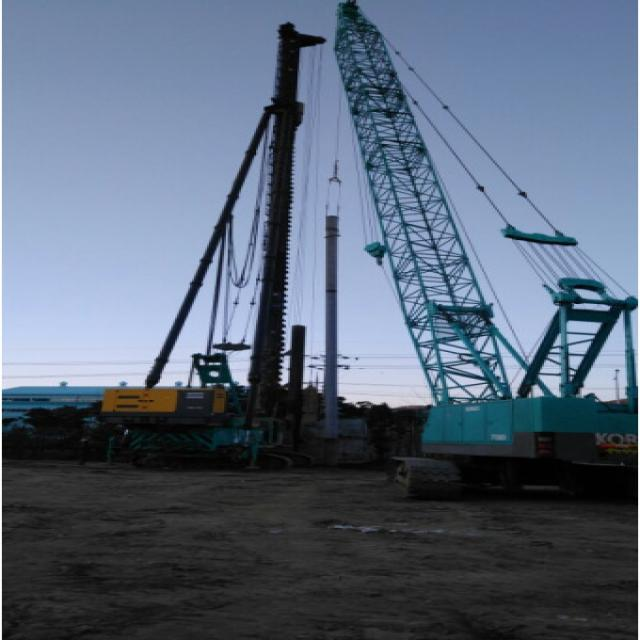pile: (249, 140, 296, 382)
